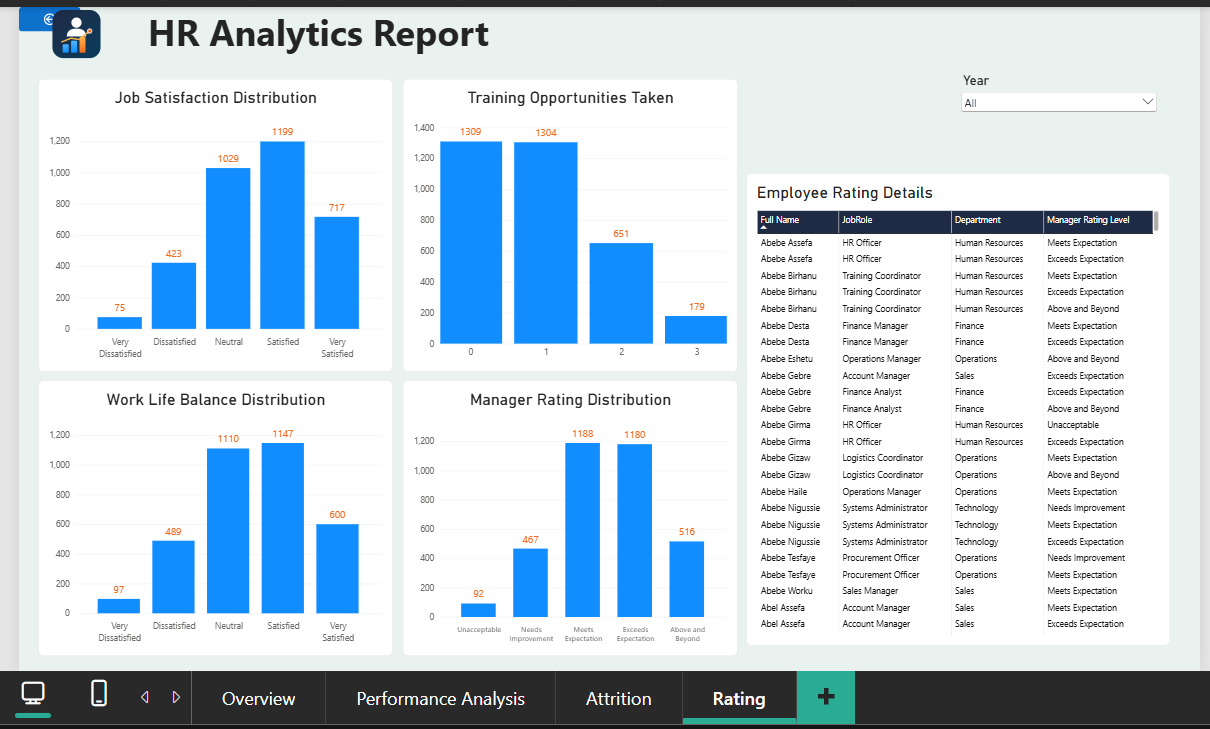

This screenshot's page, from the dashboard's own definition file:
{"tool":"powerbi","page":{"name":"Rating","canvas":[1920,1080],"ordinal":3},"visuals":[{"type":"columnChart","title":"Job Satisfaction Distribution","fields":{"Category":["PerformanceRating.Job Satisfaction Level"],"Y":["CountNonNull(PerformanceRating.JobSatisfaction)"]},"box":[31.7,117.1,575.8,475.8],"z":0},{"type":"slicer","title":" ","fields":{"Values":["PerformanceRating.ReviewDate.Variation.Date Hierarchy.Year"]},"box":[1528.1,66.8,328.1,142.8],"z":1000},{"type":"columnChart","title":"Work Life Balance Distribution","fields":{"Category":["PerformanceRating.Work Life Balance Level"],"Y":["CountNonNull(PerformanceRating.WorkLifeBalance)"]},"box":[32,608,576,448],"z":2000},{"type":"columnChart","title":"Training Opportunities Taken","fields":{"Category":["PerformanceRating.TrainingOpportunitiesTaken"],"Y":["CountNonNull(PerformanceRating.TrainingOpportunitiesTaken)"]},"box":[624.6,117.1,544.1,475.8],"z":3000},{"type":"textbox","box":[209.6,0,628.9,88.1],"z":4000,"group":"g1"},{"type":"columnChart","title":"Manager Rating Distribution","fields":{"Category":["PerformanceRating.Manager Rating Level"],"Y":["CountNonNull(PerformanceRating.ManagerRating)"]},"box":[624,608,544,448],"z":4000},{"type":"tableEx","title":" Employee Rating Details","fields":{"Values":["Employee.Full Name","Employee.JobRole","Employee.Department","PerformanceRating.Manager Rating Level"]},"box":[1184,272,688,768],"z":5000},{"type":"actionButton","box":[0,0,100,40],"z":6000},{"type":"group","id":"g1","title":"Group 1","box":[27.3,0,811.1,88.1],"z":7000},{"type":"image","box":[27.3,0,133.7,88.1],"z":11001,"group":"g1"}]}

Visuals, with their boxes on the page's 1920x1080 design canvas (x1, y1, x2, y2). These are canvas units, not pixel positions in the 1210x729 screenshot, which may show the page scaled, cropped or inside an application window:
"Job Satisfaction Distribution" columnChart: 32, 117, 608, 593
" " slicer: 1528, 67, 1856, 210
"Work Life Balance Distribution" columnChart: 32, 608, 608, 1056
"Training Opportunities Taken" columnChart: 625, 117, 1169, 593
textbox: 210, 0, 838, 88
"Manager Rating Distribution" columnChart: 624, 608, 1168, 1056
" Employee Rating Details" tableEx: 1184, 272, 1872, 1040
actionButton: 0, 0, 100, 40
"Group 1" group: 27, 0, 838, 88
image: 27, 0, 161, 88
